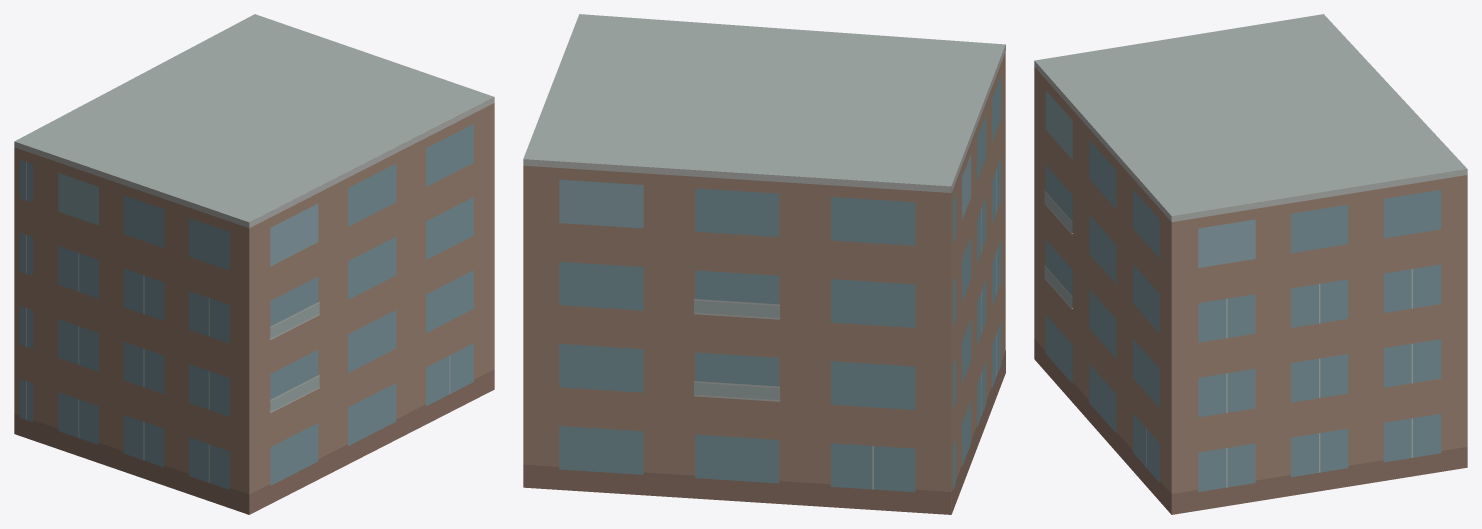
File: survey-upis-32480163.glb
3 views of the same model, side by side, from view 1: azimuth 30°, elevation 25°; view 2: azimuth 150°, elevation 25°; view 3: azimuth 270°, elevation 25° (orthographic). The views are drawn at different scales.
Parts seen in each view (by area): view 1: survey-upis-32480163.tmp; view 2: survey-upis-32480163.tmp; view 3: survey-upis-32480163.tmp.
Boxes of the visible parts, x1,y1,x2,y2 form: survey-upis-32480163.tmp: (14,14,494,514); survey-upis-32480163.tmp: (523,14,1005,514); survey-upis-32480163.tmp: (1034,14,1467,514).
Bounding box in the file's own units: 17.73 × 12.2 × 16.05.
